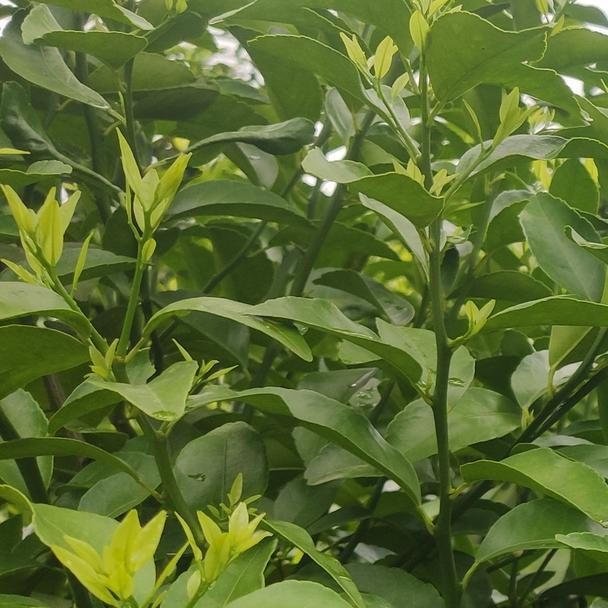shoot: (68, 509, 170, 591), (114, 144, 191, 243), (8, 183, 78, 287), (344, 35, 414, 139), (184, 515, 270, 596), (464, 96, 542, 181)
